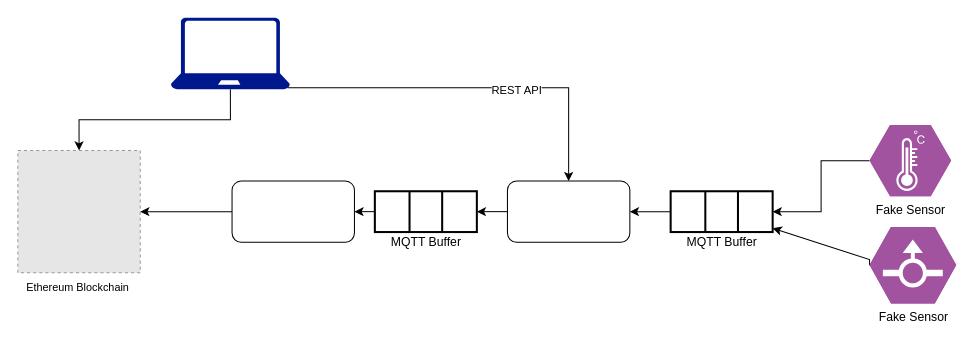
This 974x342 diagram has some shape labels left out. Grey dashed boxes stand in for pictures. The shapes that lost their labels are listed below. From the top down, each one's centre as x and y in pixels, then its label:
At (292,211): "Blockchain Connection".
At (568,211): "Data Filter".
